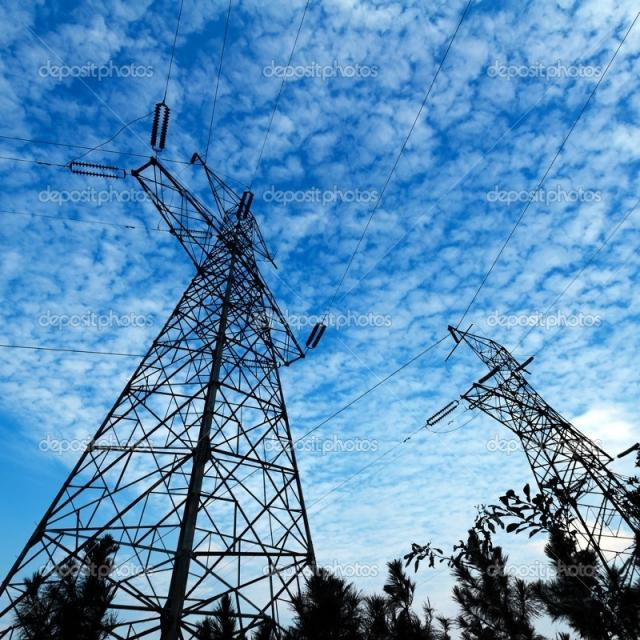non-critical vegetation: (12, 91, 362, 634), (426, 318, 634, 632)
